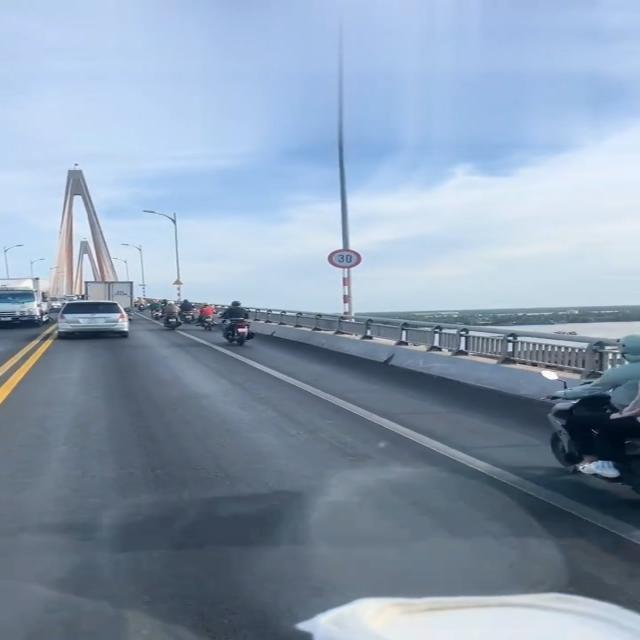127-toc-do-toi-da-30: (326, 248, 362, 268)
